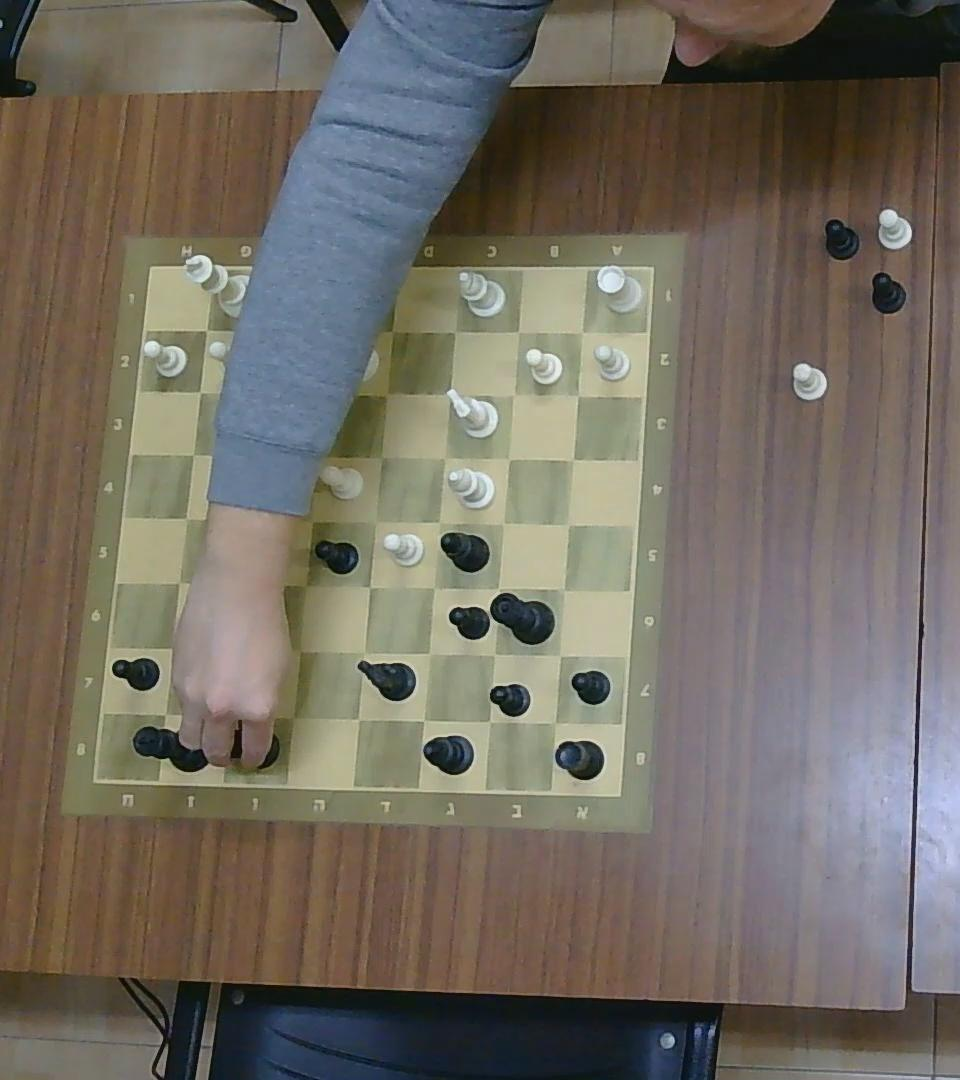xcorner: (165, 567, 193, 596), (152, 699, 180, 727), (159, 634, 187, 661), (318, 314, 344, 343), (254, 316, 280, 344), (311, 379, 337, 406), (281, 702, 305, 731), (349, 638, 375, 664), (219, 700, 244, 727), (378, 318, 404, 343), (477, 709, 503, 734), (174, 504, 198, 531), (346, 705, 370, 732), (226, 634, 250, 661), (287, 638, 311, 664), (412, 707, 436, 733), (195, 316, 219, 341), (228, 571, 252, 596), (542, 710, 566, 734), (362, 509, 386, 533), (239, 503, 261, 529), (300, 507, 323, 531), (437, 381, 460, 405), (600, 0, 625, 22), (245, 444, 267, 469), (251, 382, 273, 407), (181, 442, 204, 465), (294, 573, 316, 597), (359, 575, 381, 599), (188, 379, 210, 403), (309, 445, 331, 469), (422, 576, 444, 598), (482, 643, 504, 665), (419, 643, 441, 665), (427, 512, 450, 533), (444, 319, 465, 341), (567, 384, 588, 405), (498, 448, 518, 469), (371, 447, 392, 467), (563, 448, 583, 469), (549, 646, 570, 666), (558, 514, 578, 534), (434, 447, 454, 467), (376, 383, 396, 403), (508, 320, 528, 340), (493, 514, 513, 534), (488, 577, 508, 597), (504, 384, 523, 405), (573, 321, 591, 340), (555, 579, 573, 598)
